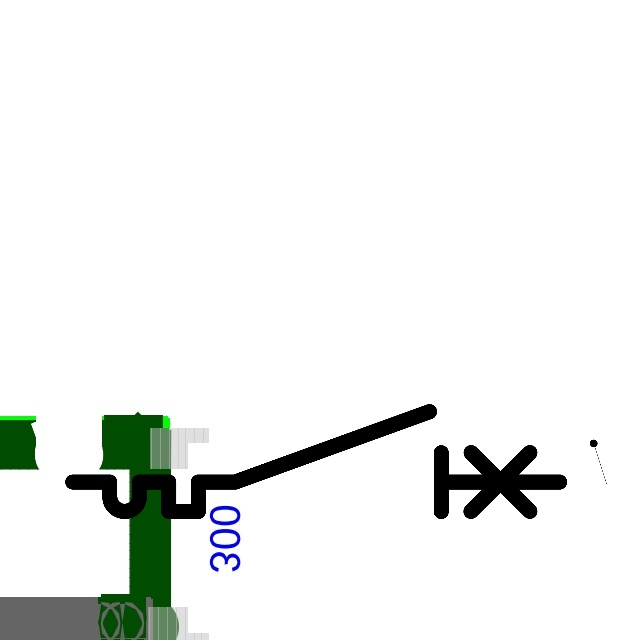interruptor_termomagnetico: (60, 399, 571, 524)
